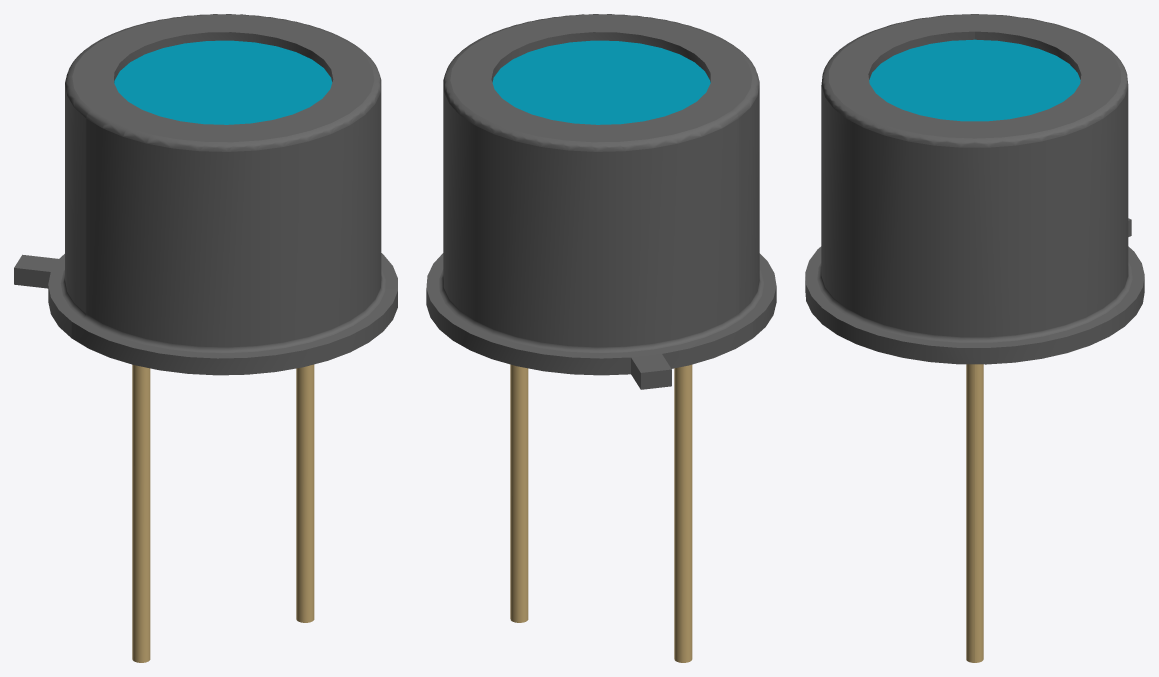
File: kc-to-5-2_window.glb
3 views of the same model, side by side, from view 1: azimuth 30°, elevation 25°; view 2: azimuth 150°, elevation 25°; view 3: azimuth 270°, elevation 25° (orthographic). The views are drawn at different scales.
Parts seen in each view (by area): view 1: 0.16666666666666666_0.16666666666666666_0.16666666666666666_, 0_0.3333333333333333_0.5_0, 0.75_0.5_0.25_0.9; view 2: 0.16666666666666666_0.16666666666666666_0.16666666666666666_, 0_0.3333333333333333_0.5_0, 0.75_0.5_0.25_0.9; view 3: 0.16666666666666666_0.16666666666666666_0.16666666666666666_, 0_0.3333333333333333_0.5_0, 0.75_0.5_0.25_0.9.
Part boxes in pixels (<box>): 0.16666666666666666_0.16666666666666666_0.16666666666666666_: <box>14,14,397,375</box>; 0_0.3333333333333333_0.5_0: <box>114,40,332,124</box>; 0.75_0.5_0.25_0.9: <box>132,364,314,662</box>; 0.16666666666666666_0.16666666666666666_0.16666666666666666_: <box>426,14,776,389</box>; 0_0.3333333333333333_0.5_0: <box>492,40,710,124</box>; 0.75_0.5_0.25_0.9: <box>510,364,692,662</box>; 0.16666666666666666_0.16666666666666666_0.16666666666666666_: <box>805,14,1144,364</box>; 0_0.3333333333333333_0.5_0: <box>869,39,1080,121</box>; 0.75_0.5_0.25_0.9: <box>966,364,983,662</box>.
Size of the model in its own units: 0.9389 by 1.66 by 0.9393.
